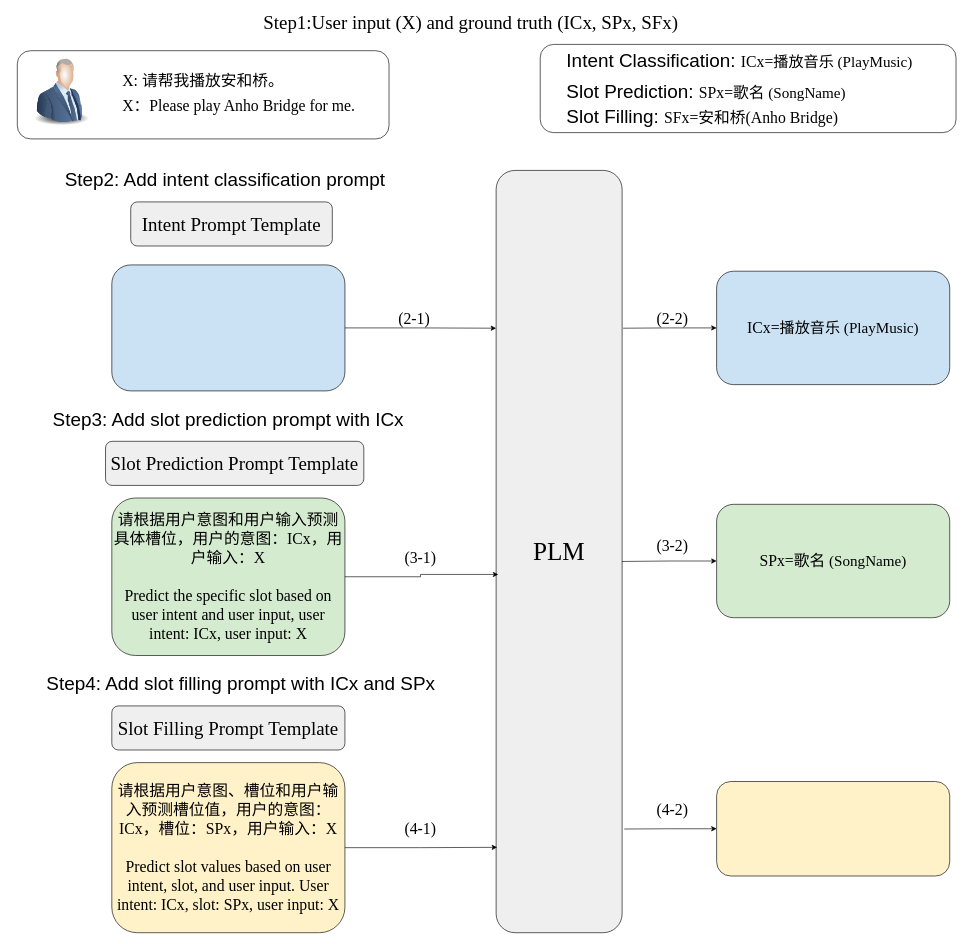
Some shapes in this 967 by 944 pixel diagram are drawn without their labels. Here are the shapes that lost their labels. From the top down, the box of each, then its label:
(111, 264, 345, 391): 请根据用户输入预测用户意图，用户输入：X Predict user intent based on user input, user input: X
(716, 781, 950, 876): SFx=安和桥(Anho Bridge)
